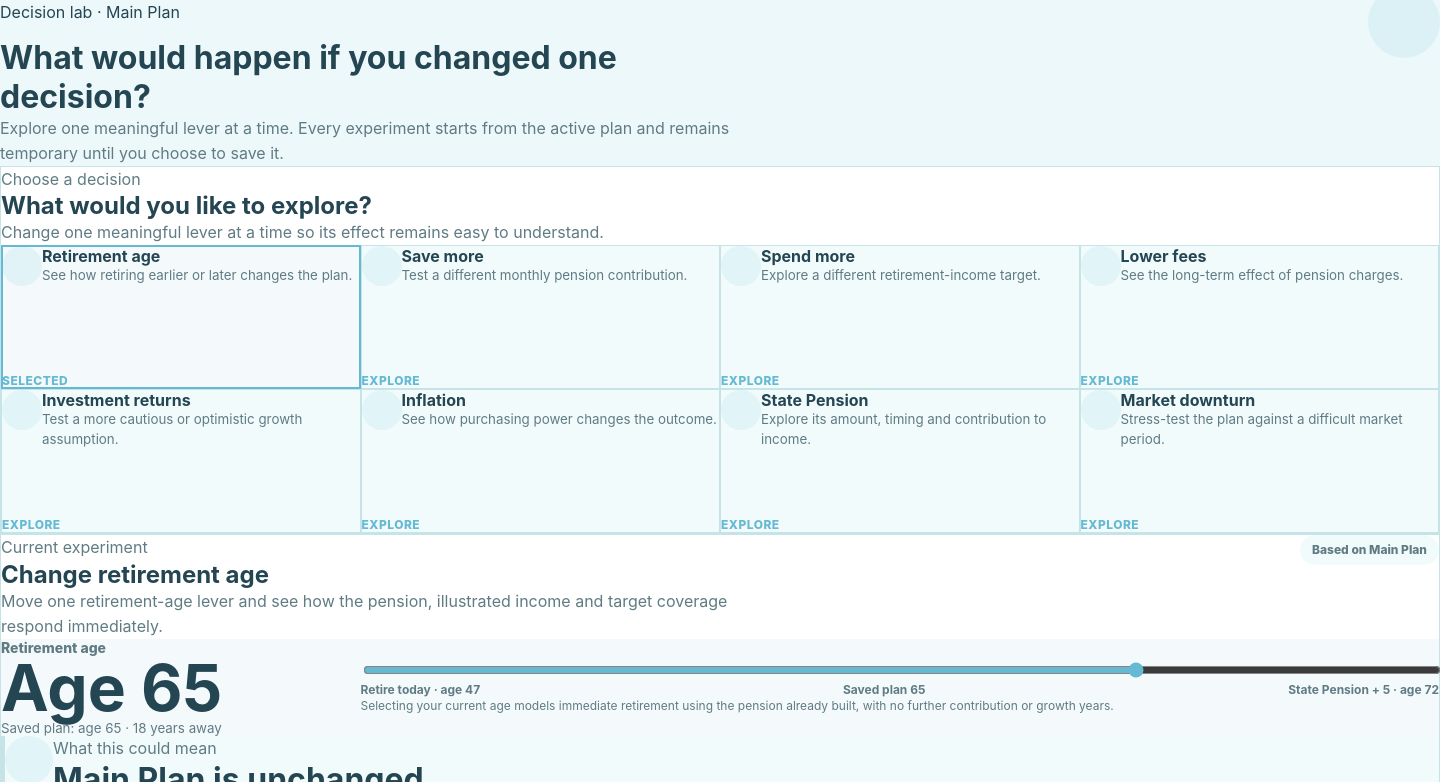
WhatIfPage › allows immediate retirement at the current age
The image size is (1440, 782).
Step 1. Set the slider named "Experimental retirement age" to "47" → x=370, y=670, box top-left (362, 662), bottom-right (1439, 678)
(page scrolled)
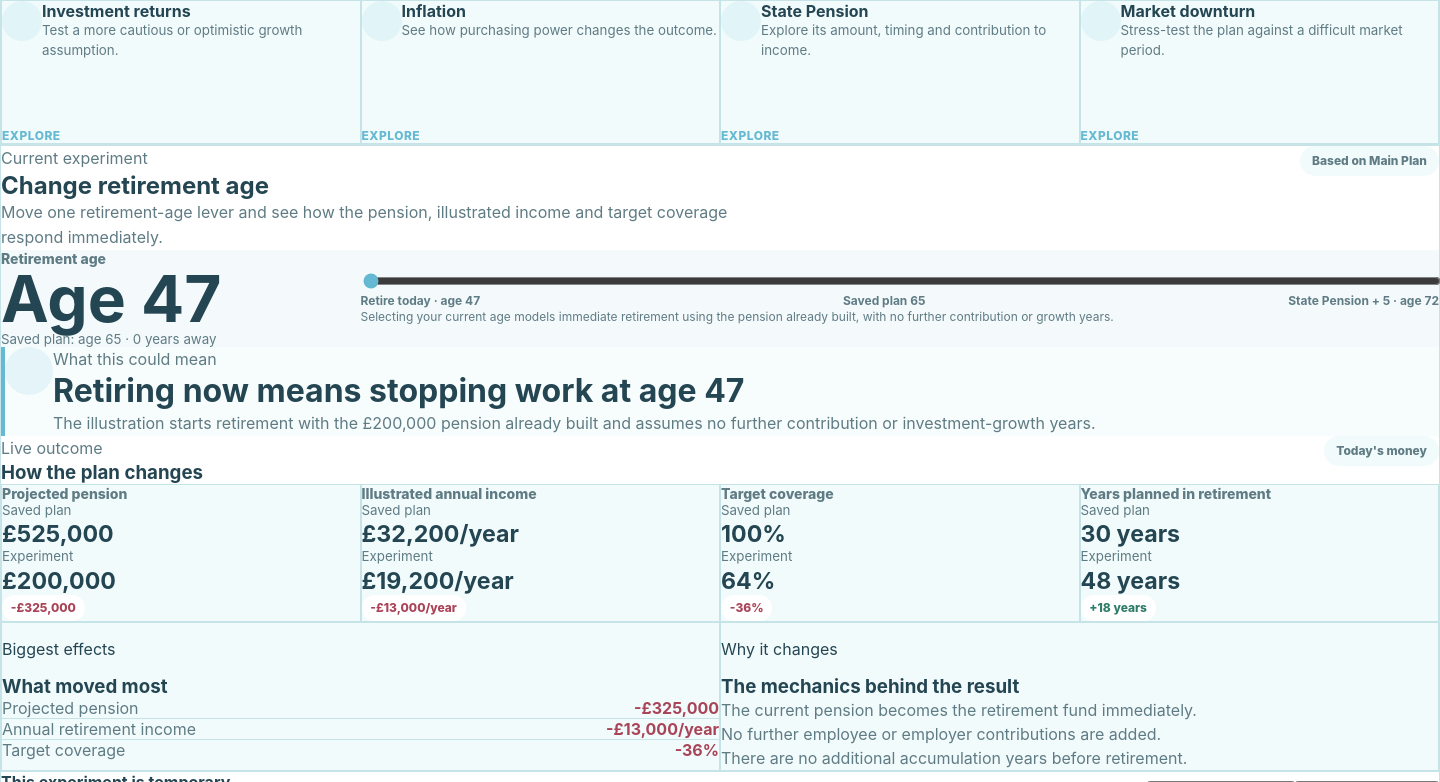
Expected: the text "Age 47" is shown, top-left (1, 260), bottom-right (222, 337)
Expected: the heading "Retiring now means stopping work at age 47" is shown, top-left (53, 371), bottom-right (744, 410)
